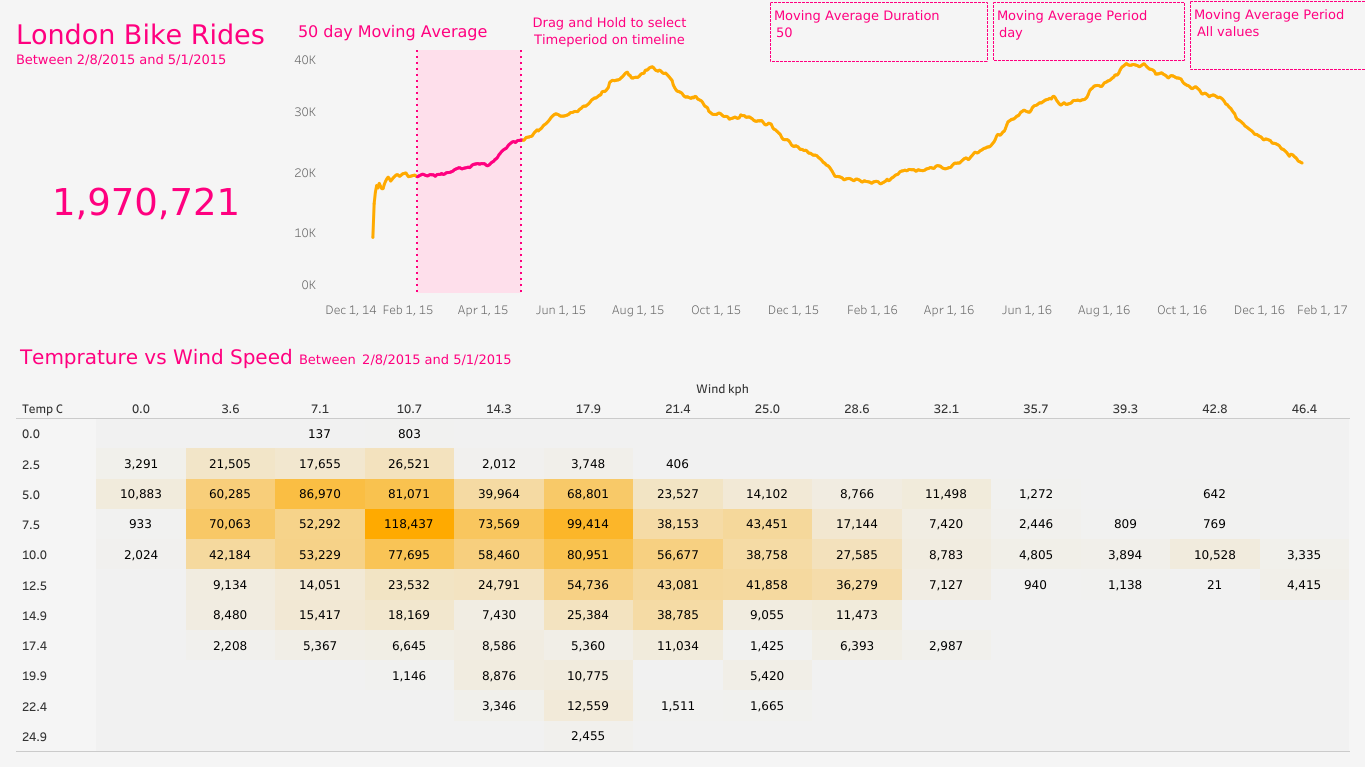

The page's visual inventory and layout, read from the dashboard file:
{"tool":"tableau","page":{"name":"LondonBikeRidersDashboard","canvas":[1366,768],"ordinal":0},"visuals":[{"type":"filter","title":"Moving Average","param":"[federated.065s8ph16sawqz17l9m860vjxgaj].[none:Calculation_662592102319861762:qk","box":[1190,1,177,69]},{"type":"text","box":[496,2,227,57]},{"type":"parameter","param":"[Parameters].[Parameter 2]","box":[770,2,218,60]},{"type":"parameter","param":"[Parameters].[Parameter 1]","box":[993,2,192,59]},{"type":"worksheet","title":"Total Rides","mark":"Automatic","box":[8,8,278,322.9]},{"type":"worksheet","title":"Moving Average","mark":"Automatic","cols":["Calculation_662592102319861762"],"box":[286,8,1072,322.9]},{"type":"worksheet","title":"Heat Map","mark":"Square","rows":["temp real C (bin)"],"cols":["Wind Speed Kph (bin)"],"box":[8,330.9,1350,429.1]}]}

Visuals, with their boxes in screenshot pixels (x1, y1, x2, y2), scaled from the page's 1366x768 canvas onto the 1365x767 screenshot:
"Moving Average" filter: bbox=(1189, 1, 1364, 70)
text: bbox=(496, 2, 722, 59)
parameter: bbox=(769, 2, 987, 62)
parameter: bbox=(992, 2, 1184, 61)
"Total Rides" worksheet: bbox=(8, 8, 286, 330)
"Moving Average" worksheet: bbox=(286, 8, 1357, 330)
"Heat Map" worksheet (Square marks): bbox=(8, 330, 1357, 759)
